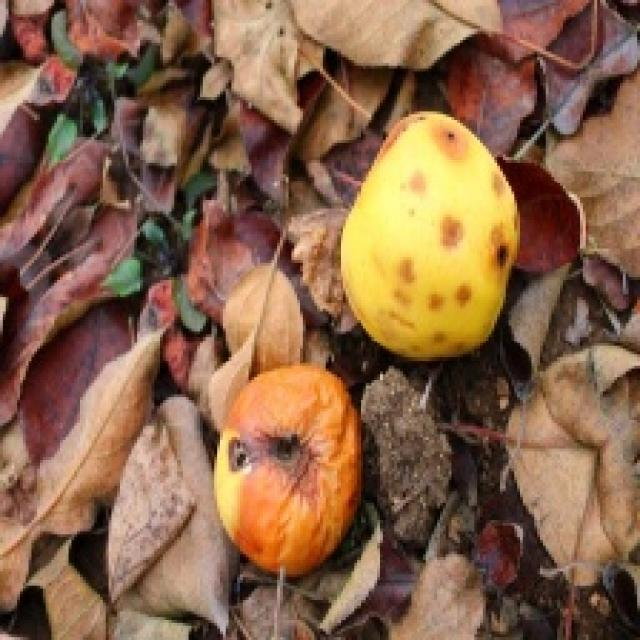rotten_apple: (343, 116, 520, 352), (215, 365, 360, 568)
